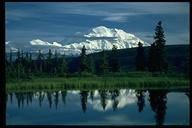mountain: (7, 20, 188, 57)
tree: (150, 18, 170, 75), (75, 43, 91, 77)
water: (9, 85, 189, 124)
